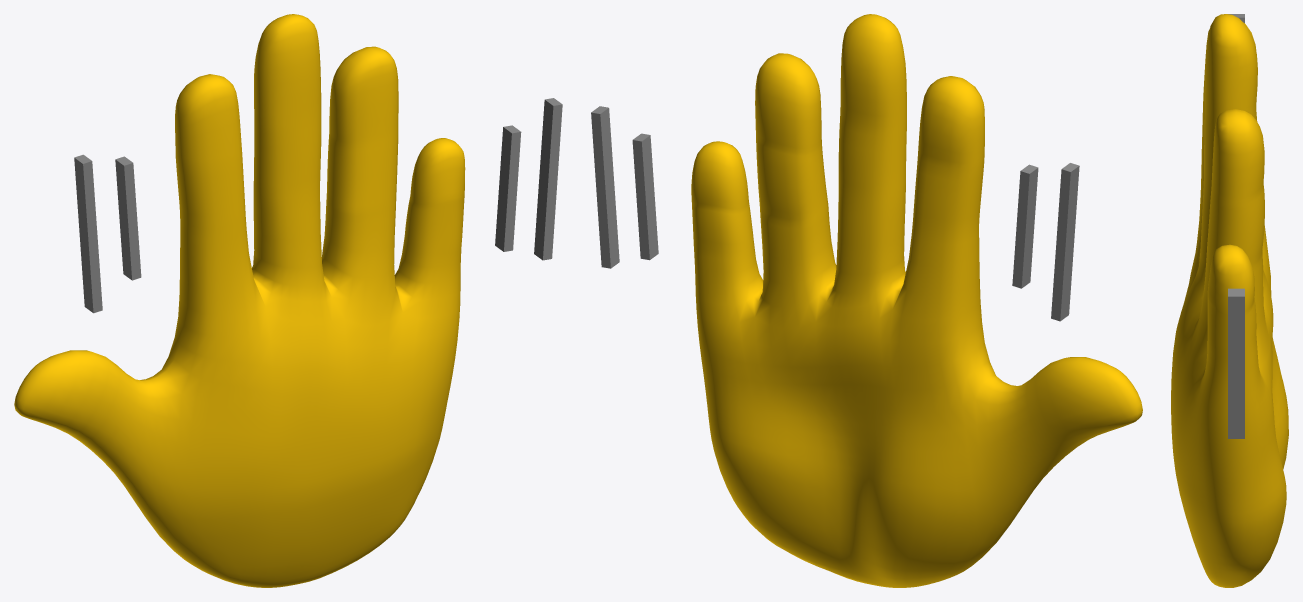
Rendered from wavingHand.gltf.
3 renders of one model, left to right at view 1: azimuth 30°, elevation 25°; view 2: azimuth 150°, elevation 25°; view 3: azimuth 270°, elevation 25°, orthographic. The views are drawn at different scales.
Parts seen in each view (by area): view 1: Cube, Cube.001, Cube.004, Cube.002, Cube.003; view 2: Cube, Cube.001, Cube.004, Cube.002, Cube.003; view 3: Cube, Cube.001.
Part boxes in pixels (x1,y1,x2,y2): Cube: (14, 14, 465, 587); Cube.001: (534, 98, 562, 260); Cube.004: (74, 154, 102, 313); Cube.002: (495, 125, 521, 251); Cube.003: (115, 156, 141, 280); Cube: (691, 14, 1142, 587); Cube.001: (591, 106, 619, 268); Cube.004: (1051, 163, 1079, 321); Cube.002: (632, 133, 658, 260); Cube.003: (1012, 164, 1038, 288); Cube: (1171, 14, 1288, 587); Cube.001: (1228, 291, 1244, 438).
Bounding box in the file's own units: 13.19 × 13.14 × 2.55.
